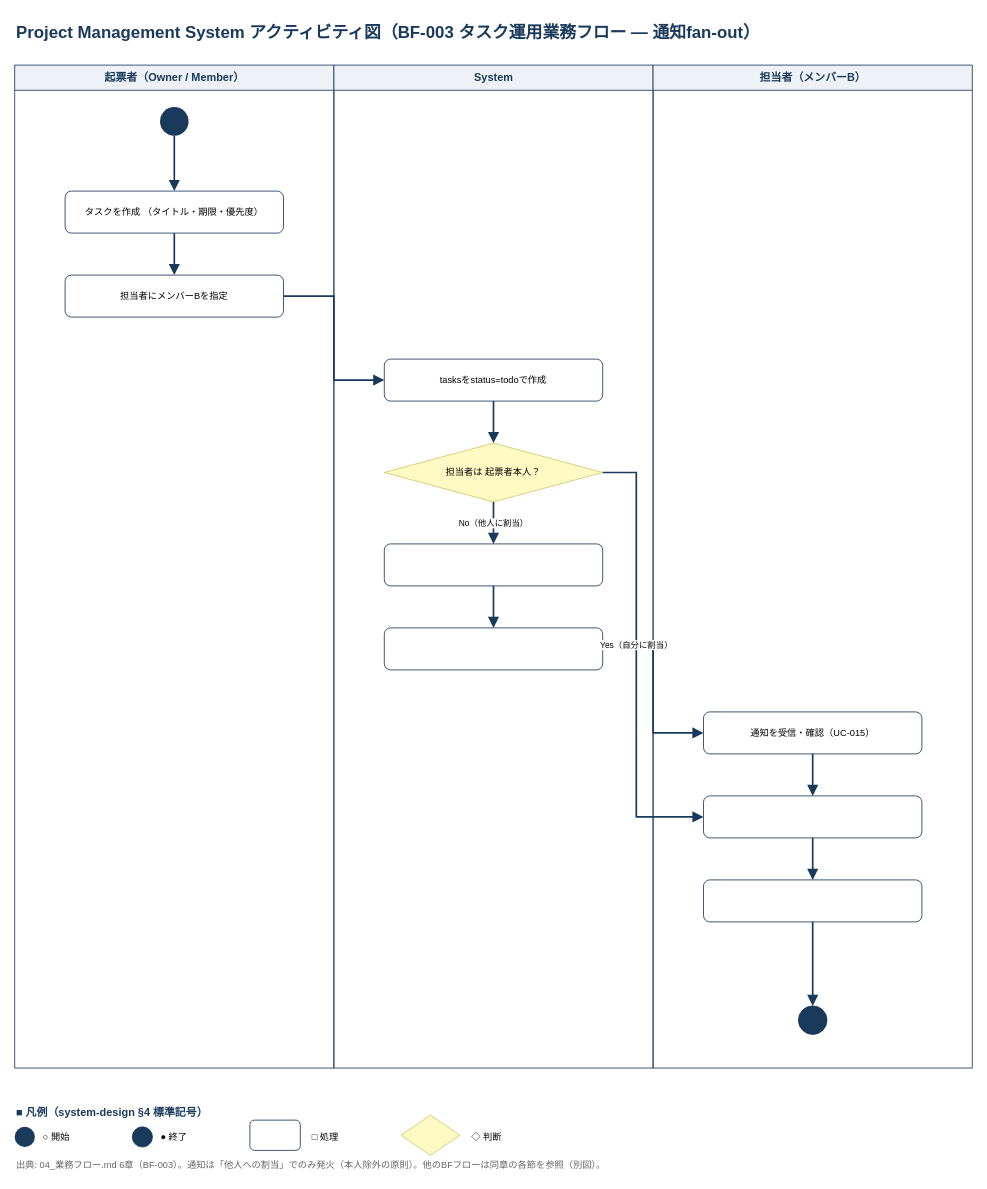
The diagram is 987 pixels wide and 1189 high, and some of its shapes have lost their labels. Here are the shapes that lost their labels. From the top down, the centre of each, then its label:
(493,564): task_assigned通知を作成 （BR-NTF-001）
(493,648): （bonus）Reverbで リアルタイム配信（UC-021）
(812,816): タスク詳細を確認し、 カンバンでin_progressへ移動
(812,900): 作業完了後、doneへ移動
